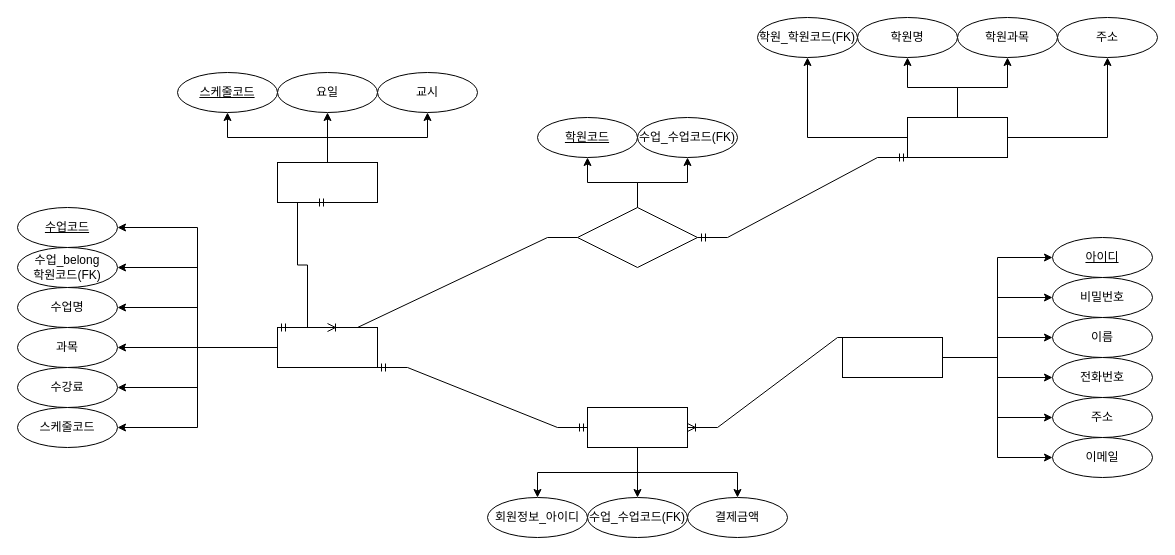
Some shapes in this 1175 by 555 pixel diagram are drawn without their labels. Each missing label, with the centre of its shape:
"결제정보" goes at (637,427).
"수업" goes at (327,347).
"수업_belong" goes at (637,237).
"스케줄" goes at (327,182).
"학원" goes at (957,137).
"회원정보" goes at (892,357).
